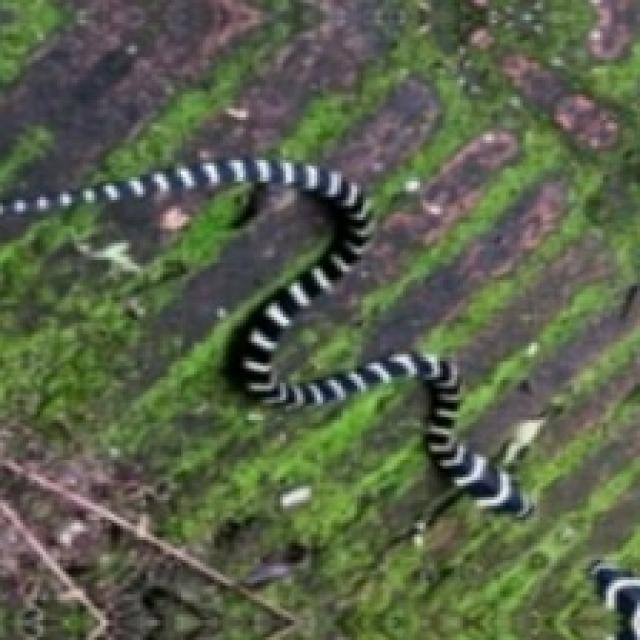king cobra: (11, 157, 531, 517)
